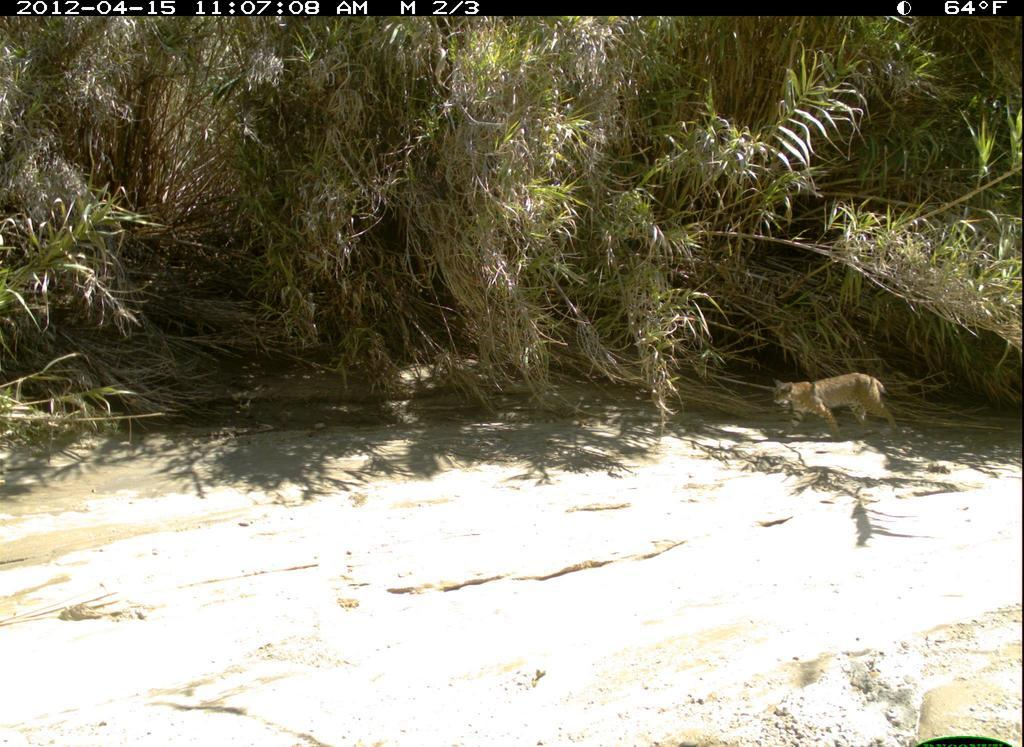bobcat: (767, 364, 917, 452)
